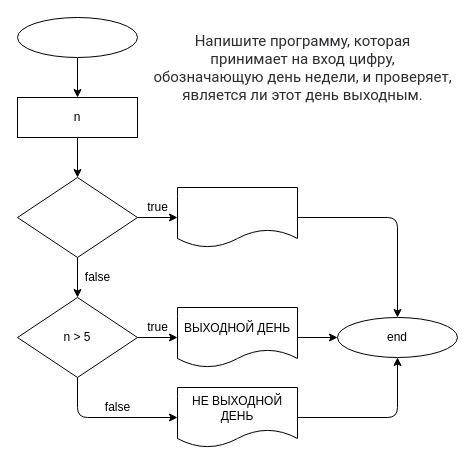
Image size: 475x465. Some labels were removed from this diagram. The shapes that lost their labels are listed below. From the top down, each one's centre as x and y in pixels, then its label:
At point 77,37: "start".
At point 77,217: "n < 1 или n>7".
At point 237,217: "НЕ ЯВЛЯЕТСЯ ДНЁМ НЕДЕЛИ".
